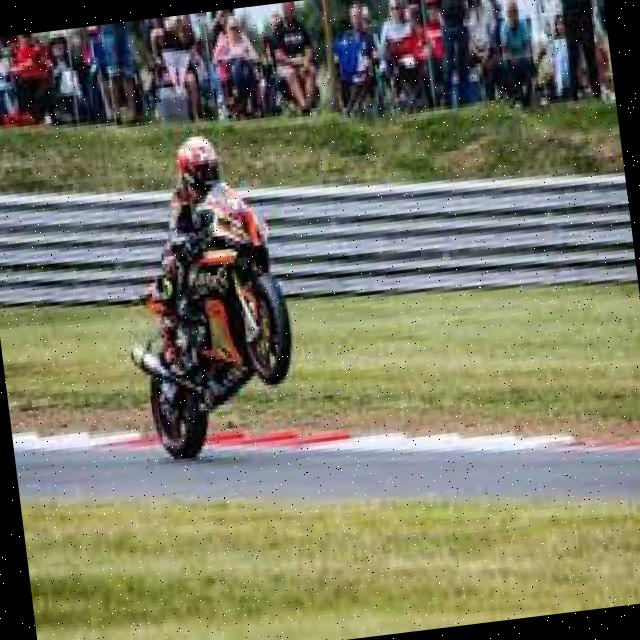Wheeling: (101, 124, 306, 453)
